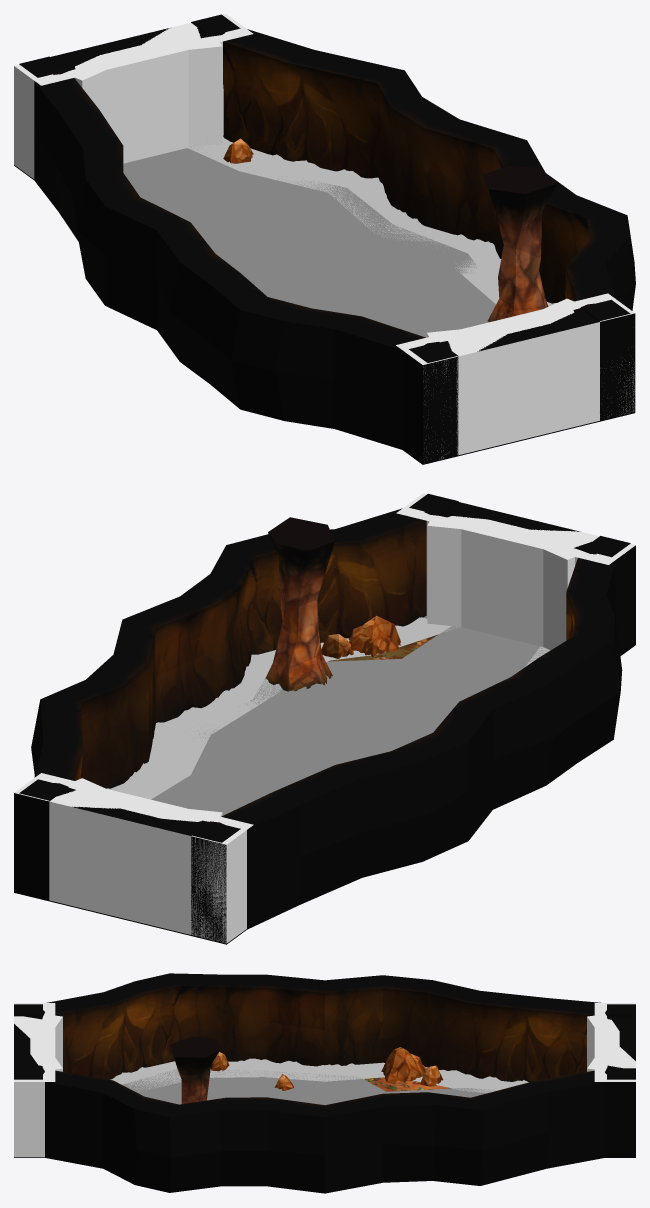
File: Dungeon_062_Road_002.fbx
3 views of the same model, one above another, from view 1: azimuth 30°, elevation 25°; view 2: azimuth 150°, elevation 25°; view 3: azimuth 270°, elevation 25° (orthographic). The views are drawn at different scales.
Parts seen in each view (by area): view 1: Dun_062_Road_002_wall, Dun_062_RoadI_002_Nav, DoorWay_NavMask (3) (×2), DoorWay_NavMask (1) (×2), Dan1_shadow, Dungeon_062_Object_04_Pillar, Dun_062_Door_002 (×2), DoorWay_NavMask (2) (×2), DoorWay_NavMask (4); view 2: Dun_062_Road_002_wall, DoorWay_NavMask (3) (×2), Dun_062_RoadI_002_Nav, DoorWay_NavMask (1), Dan1_shadow, Dungeon_062_Object_04_Pillar, Dun_062_Door_002 (×2), DoorWay_NavMask (4) (×2), DoorWay_NavMask (2) (×2), Dun_062_Object_100; view 3: Dun_062_Road_002_wall, DoorWay_NavMask (3) (×2), Dun_062_RoadI_002_Nav, Dan1_shadow, Dun_062_Door_002 (×2), Dungeon_062_Object_04_Pillar, Dun_062_Object_100, DoorWay_NavMask (1) (×2), DoorWay_NavMask (2), DoorWay_NavMask (4), Dun_062_Road_002_ground.
Part boxes in pixels (x1,y1,x2,y2): Dun_062_Road_002_wall: [14, 29, 635, 464]; Dun_062_RoadI_002_Nav: [123, 147, 495, 337]; DoorWay_NavMask (3) (×2): [14, 14, 634, 459]; DoorWay_NavMask (1) (×2): [69, 23, 600, 455]; Dan1_shadow: [188, 138, 556, 306]; Dungeon_062_Object_04_Pillar: [482, 166, 557, 322]; Dun_062_Door_002 (×2): [19, 14, 630, 456]; DoorWay_NavMask (2) (×2): [163, 36, 485, 342]; DoorWay_NavMask (4): [64, 56, 119, 119]; Dun_062_Road_002_wall: [14, 508, 635, 944]; DoorWay_NavMask (3) (×2): [14, 493, 635, 943]; Dun_062_RoadI_002_Nav: [151, 626, 549, 815]; DoorWay_NavMask (1): [49, 792, 212, 934]; Dan1_shadow: [106, 617, 550, 799]; Dungeon_062_Object_04_Pillar: [265, 517, 334, 691]; Dun_062_Door_002 (×2): [19, 493, 630, 935]; DoorWay_NavMask (4) (×2): [163, 515, 486, 821]; DoorWay_NavMask (2) (×2): [65, 535, 585, 802]; Dun_062_Object_100: [321, 615, 400, 658]; Dun_062_Road_002_wall: [14, 973, 635, 1193]; DoorWay_NavMask (3) (×2): [14, 1003, 635, 1157]; Dun_062_RoadI_002_Nav: [121, 1069, 498, 1104]; Dan1_shadow: [110, 1058, 528, 1092]; Dun_062_Door_002 (×2): [14, 1004, 635, 1079]; Dungeon_062_Object_04_Pillar: [170, 1036, 219, 1104]; Dun_062_Object_100: [210, 1047, 443, 1086]; DoorWay_NavMask (1) (×2): [18, 1016, 635, 1069]; DoorWay_NavMask (2): [37, 1014, 62, 1067]; DoorWay_NavMask (4): [587, 1015, 612, 1067]; Dun_062_Road_002_ground: [369, 1077, 451, 1091].
Size of the model in its own units: 8.54 by 2.96 by 15.
